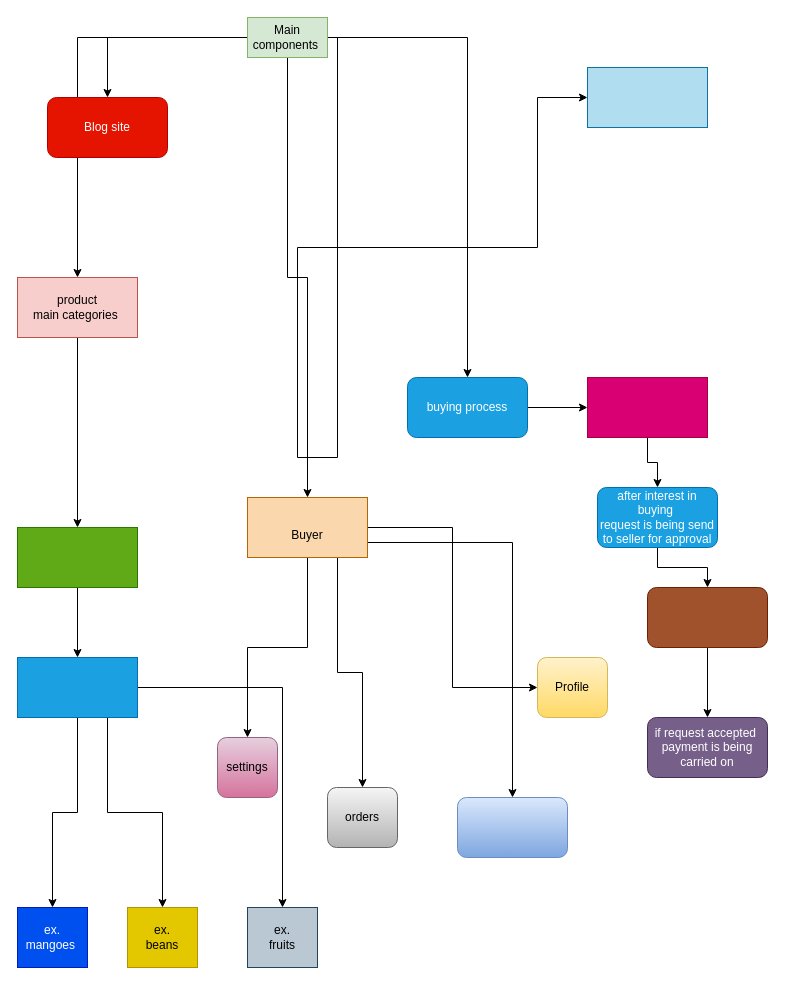
This 785x985 diagram has some shape labels left out. Here are the shapes that lost their labels. From the top down, the box of each, then its label:
(586, 66, 708, 128): seller
(586, 376, 708, 438): selecting a product to buy
(16, 526, 138, 588): product sub caregories
(646, 586, 768, 648): Buyer aproval or rejection
(16, 656, 138, 718): product products list
(456, 796, 568, 858): Sent quotation
